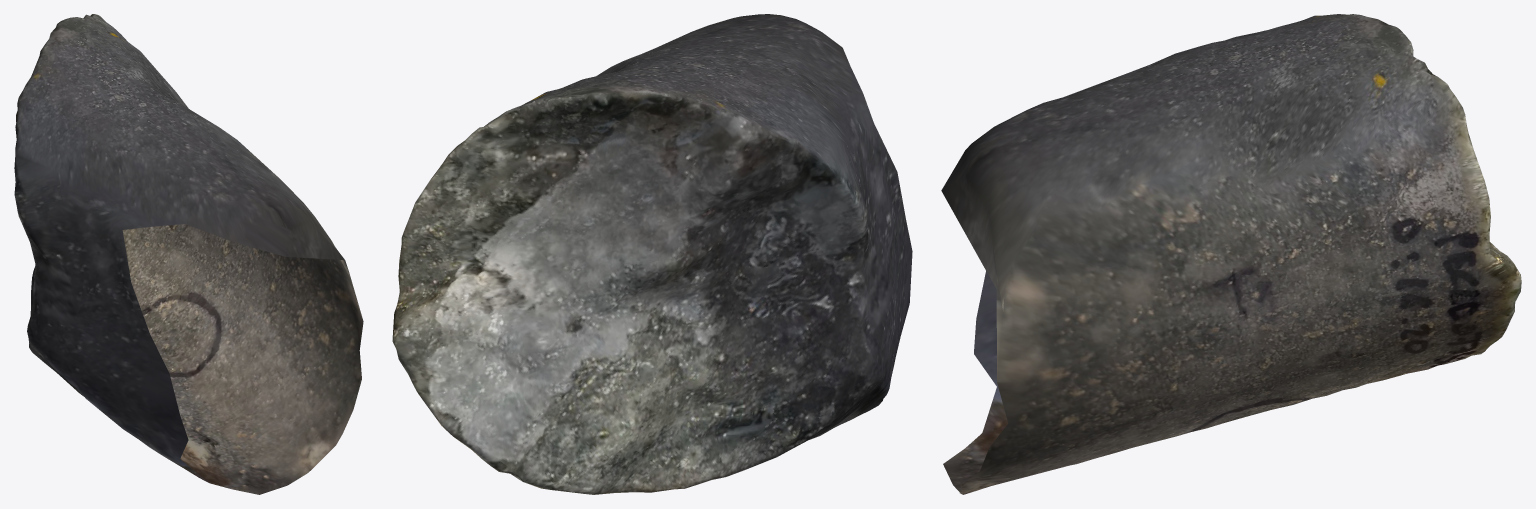
The model's file is PECLD07752 T1.glb.
3 views of the same model, side by side, from view 1: azimuth 30°, elevation 25°; view 2: azimuth 150°, elevation 25°; view 3: azimuth 270°, elevation 25° (orthographic). The views are drawn at different scales.
Parts seen in each view (by area): view 1: baked_mesh; view 2: baked_mesh; view 3: baked_mesh.
Part boxes in pixels (x1,y1,x2,y2): baked_mesh: (14, 14, 363, 494); baked_mesh: (392, 14, 912, 494); baked_mesh: (941, 14, 1521, 494).
Bounding box in the file's own units: 0.2535 × 0.3189 × 0.3922.
1 material, 1 textured.
